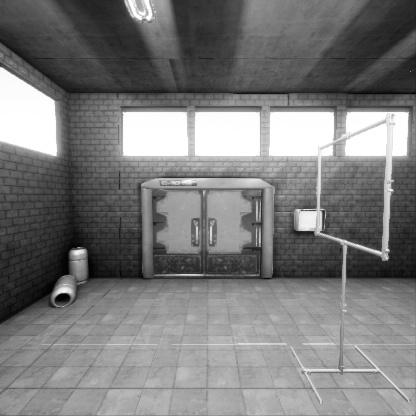gate: (316, 162, 397, 308)
